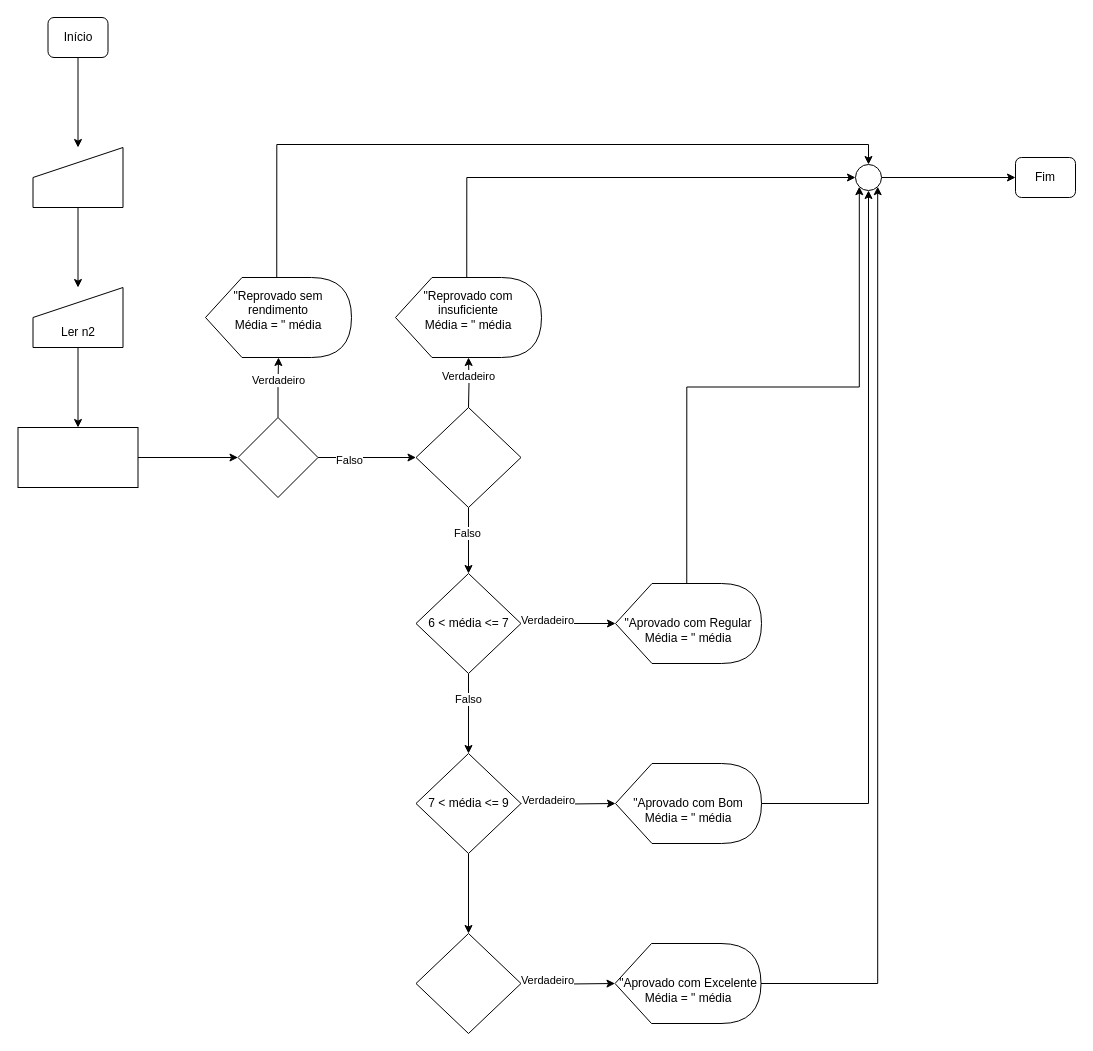
Some shapes in this 1093 by 1051 pixel diagram are drawn without their labels. The shapes that lost their labels are listed below. From the top down, each one's centre as x and y in pixels, then its label:
At point 77,177: "Ler n1".
At point 77,457: "média = (n1+n2) / 2".
At point 277,457: "média <= 3".
At point 468,457: "3 < média <= 6".
At point 468,983: "9 < média <= 10".
